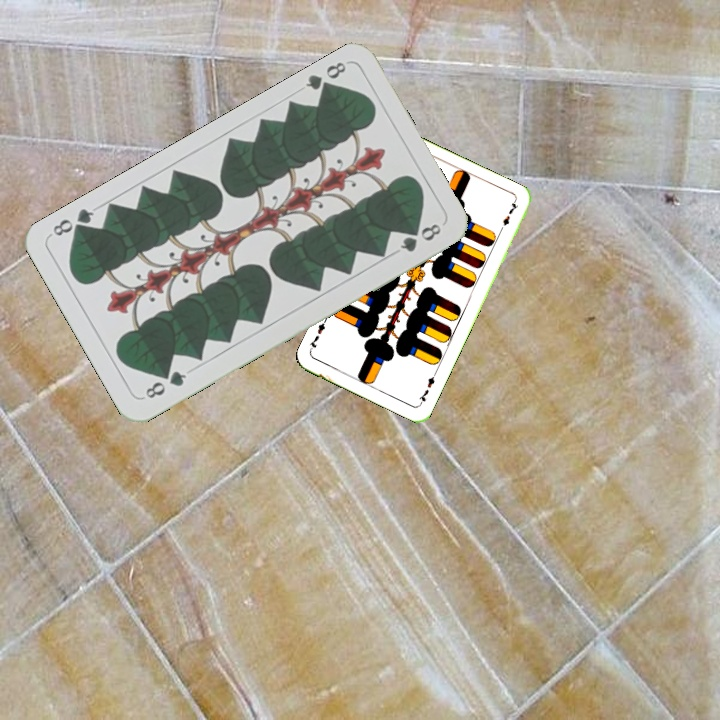E7: (415, 369, 438, 407)
G8: (301, 57, 349, 98), (141, 366, 189, 402)
